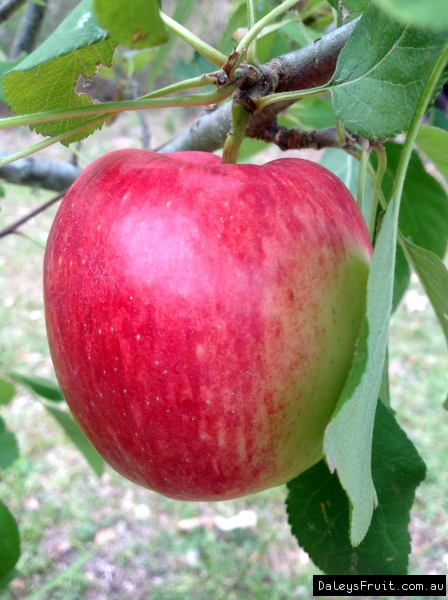apple: (37, 145, 378, 504)
